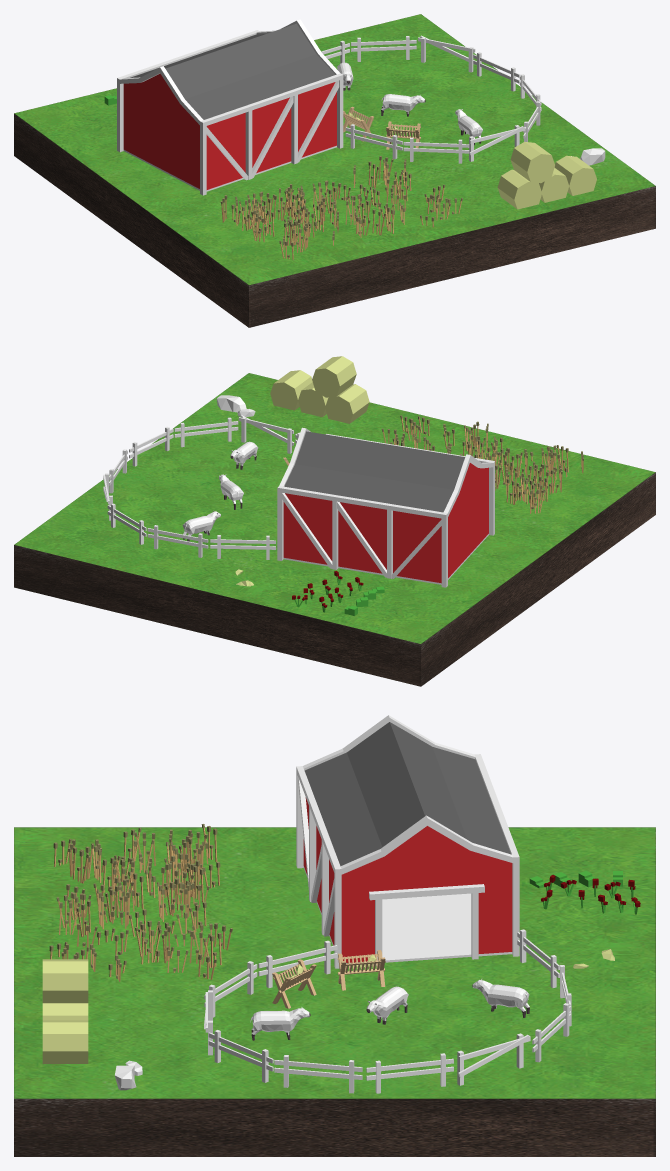
Rendered from FARM.glb.
3 renders of one model, top to bottom at view 1: azimuth 30°, elevation 25°; view 2: azimuth 150°, elevation 25°; view 3: azimuth 270°, elevation 25°, orthographic. The views are drawn at different scales.
Visible parts, largest first — view 1: Cube.013; view 2: Cube.013; view 3: Cube.013.
Part boxes in pixels (bbox=[...]): Cube.013: bbox=[14, 14, 655, 327]; Cube.013: bbox=[14, 356, 655, 686]; Cube.013: bbox=[14, 715, 655, 1156].
Size of the model in its own units: 16.02 by 5.58 by 16.02.
Materials: 14 (1 with a texture image).
